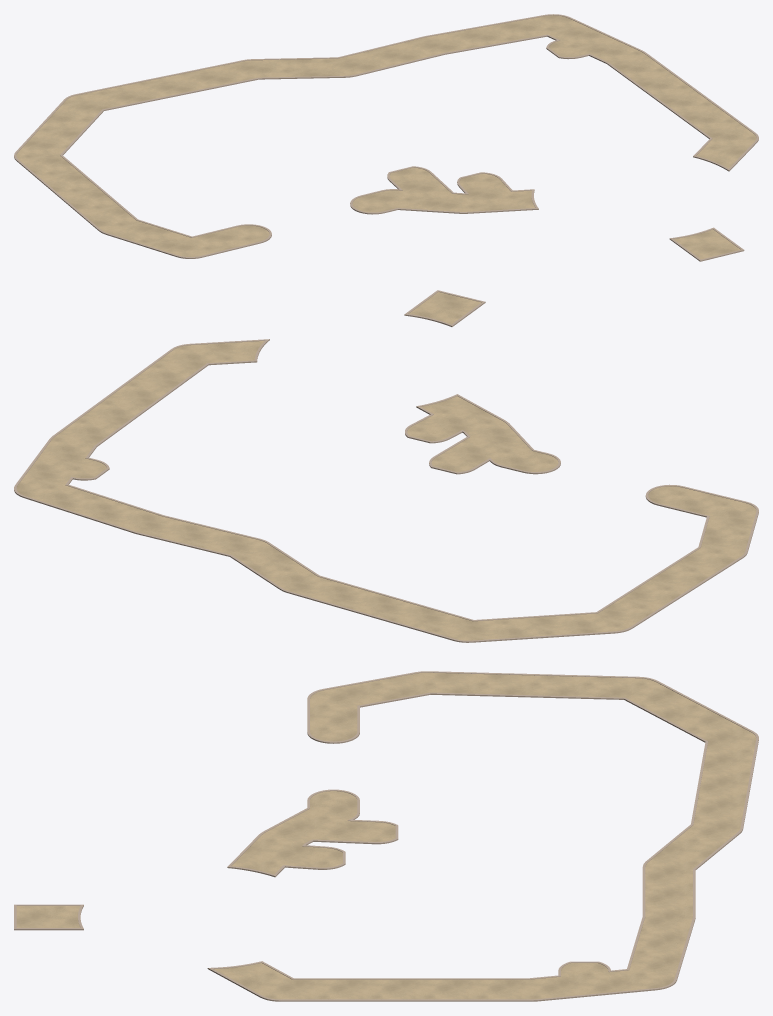
The model's file is paths.glb.
The picture shows the model from 3 angles, top to bottom: view 1: azimuth 30°, elevation 25°; view 2: azimuth 150°, elevation 25°; view 3: azimuth 270°, elevation 25°; orthographic projection. The views are drawn at different scales.
Parts seen in each view (by area): view 1: paths_gravel, paths_edge; view 2: paths_gravel, paths_edge; view 3: paths_gravel, paths_edge.
Part boxes in pixels (box(x1,y1,x2,y2)): paths_gravel: box(16, 15, 756, 259); paths_edge: box(14, 14, 758, 261); paths_gravel: box(16, 292, 756, 640); paths_edge: box(14, 290, 758, 642); paths_gravel: box(16, 672, 756, 999); paths_edge: box(14, 671, 758, 1001).
Bounding box in the file's own units: 29.5 × 0.05 × 28.2.
2 materials, 1 textured.
